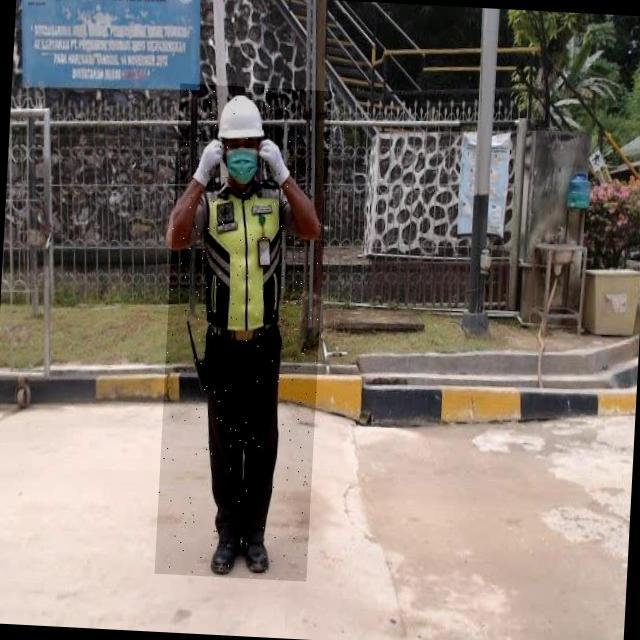Gloves: (182, 138, 229, 192), (251, 139, 298, 190)
Helmet: (214, 93, 269, 142)
Person: (155, 80, 331, 586)
Safety Boot: (237, 530, 272, 580), (211, 530, 241, 577)
Safety Vest: (194, 183, 293, 341)
